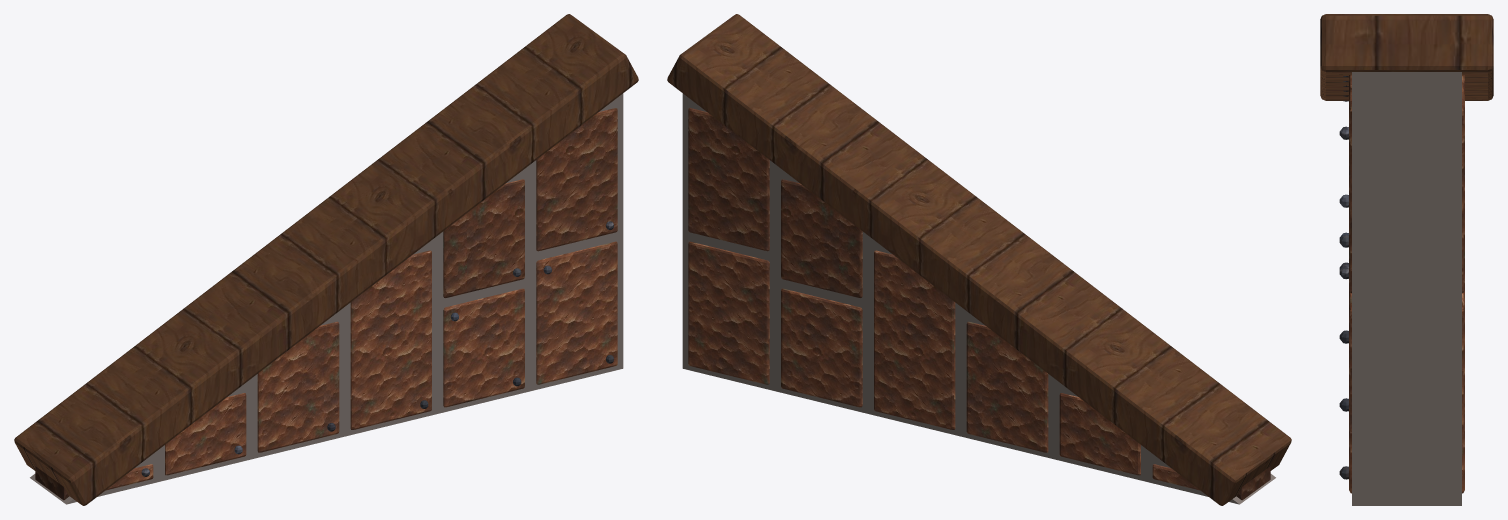
The model's file is gable_26__copper_ingot.glb.
3 renders of one model, left to right at view 1: azimuth 30°, elevation 25°; view 2: azimuth 150°, elevation 25°; view 3: azimuth 270°, elevation 25°, orthographic. The views are drawn at different scales.
Parts seen in each view (by area): view 1: model; view 2: model; view 3: model.
Boxes of the visible parts, <box> form: model: <box>14,14,638,505</box>; model: <box>667,14,1291,505</box>; model: <box>1320,14,1493,505</box>.
Size of the model in its own units: 2.04 by 1.11 by 0.36.
Materials: 8 (7 with a texture image).
